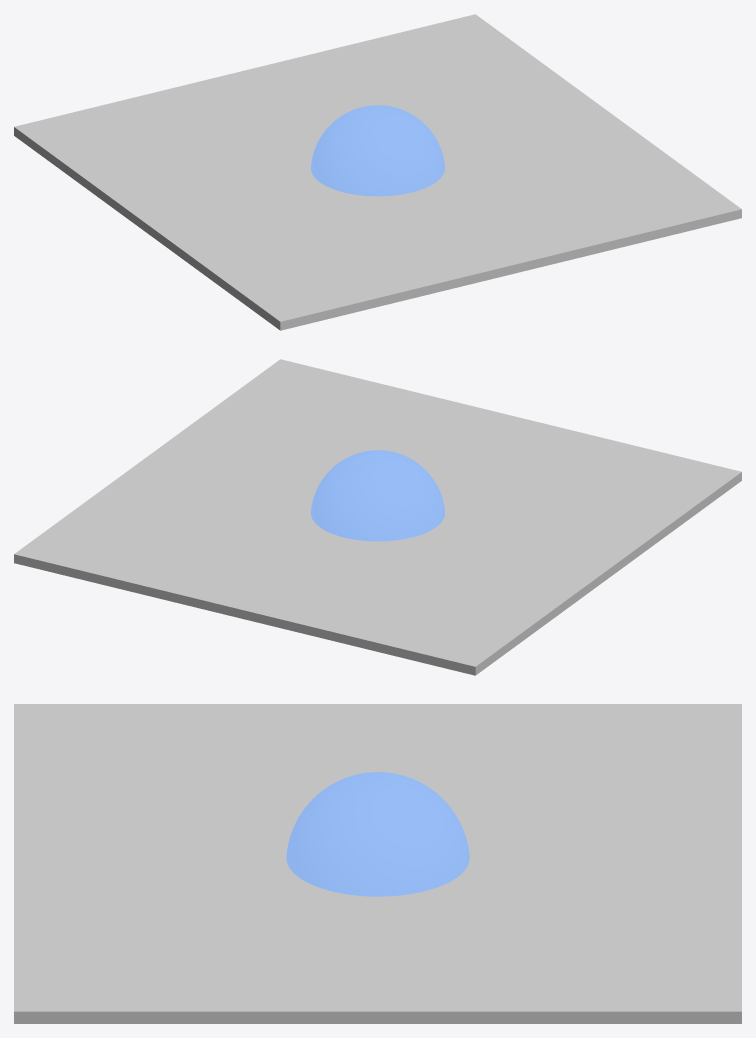
Rendered from gargantua.glb.
The picture shows the model from 3 angles, top to bottom: view 1: azimuth 30°, elevation 25°; view 2: azimuth 150°, elevation 25°; view 3: azimuth 270°, elevation 25°; orthographic projection. The views are drawn at different scales.
Parts seen in each view (by area): view 1: Cube, Icosphere; view 2: Cube, Icosphere; view 3: Cube, Icosphere.
Part boxes in pixels (x1,y1,x2,y2): Cube: [14, 14, 741, 330]; Icosphere: [311, 105, 444, 196]; Cube: [14, 359, 741, 675]; Icosphere: [311, 450, 444, 541]; Cube: [14, 704, 741, 1023]; Icosphere: [286, 772, 469, 896].
Size of the model in its own units: 7.91 by 2 by 7.91.
